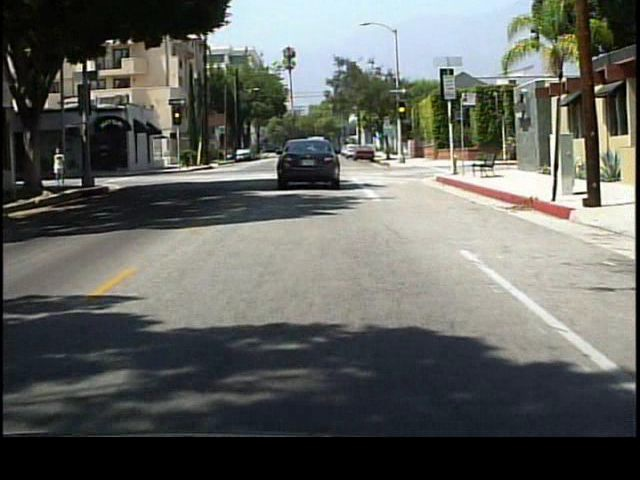person: (54, 145, 73, 190)
